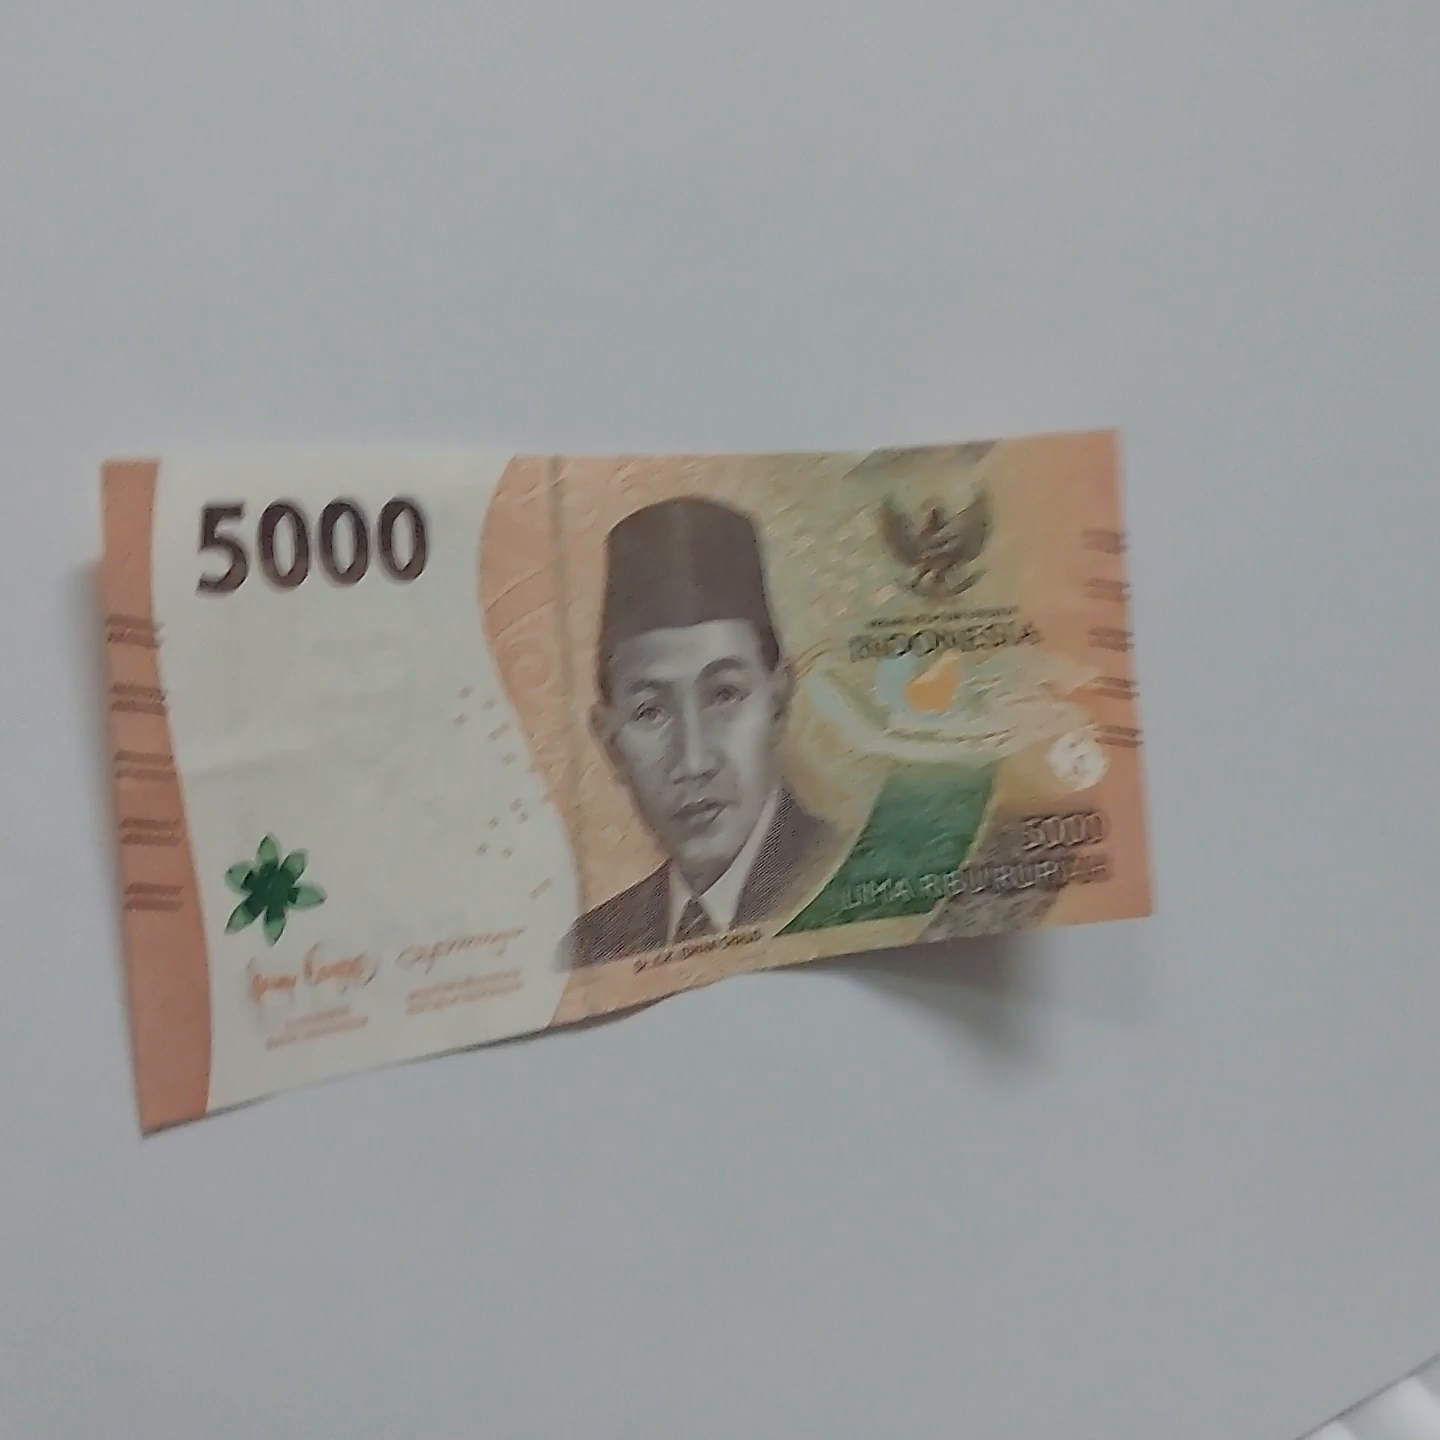5k: (71, 393, 1201, 1097)
